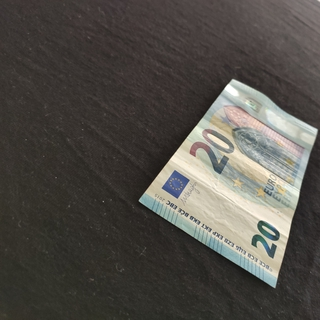20EUROFront: (138, 77, 319, 290)
